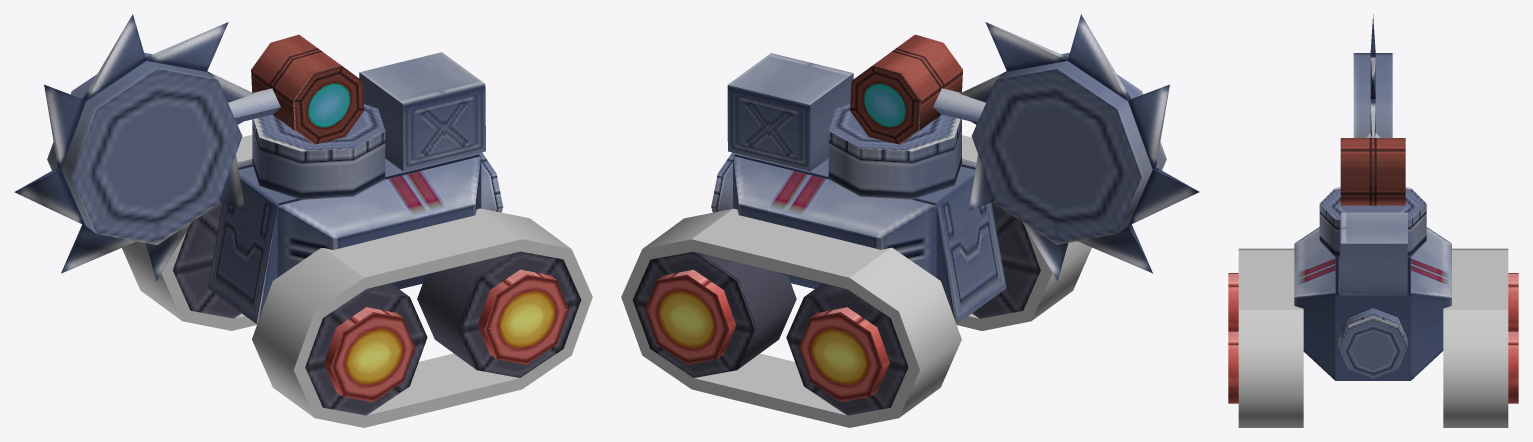
Rendered from robochain_skin.FBX.
3 views of the same model, side by side, from view 1: azimuth 30°, elevation 25°; view 2: azimuth 150°, elevation 25°; view 3: azimuth 270°, elevation 25° (orthographic). The views are drawn at different scales.
Parts seen in each view (by area): view 1: Box124; view 2: Box124; view 3: Box124.
Boxes of the visible parts, x1=… form: Box124: x1=14, y1=14, x2=592, y2=427; Box124: x1=621, y1=14, x2=1199, y2=427; Box124: x1=1228, y1=14, x2=1518, y2=427.
Size of the model in its own units: 198 by 131 by 148.
